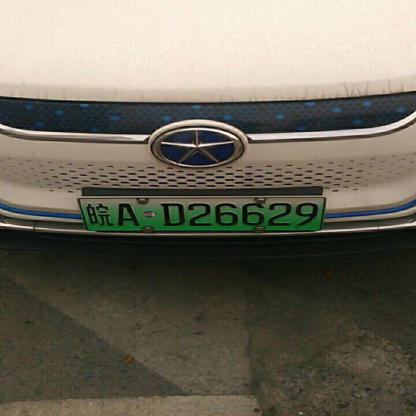lp: (78, 197, 324, 229)
